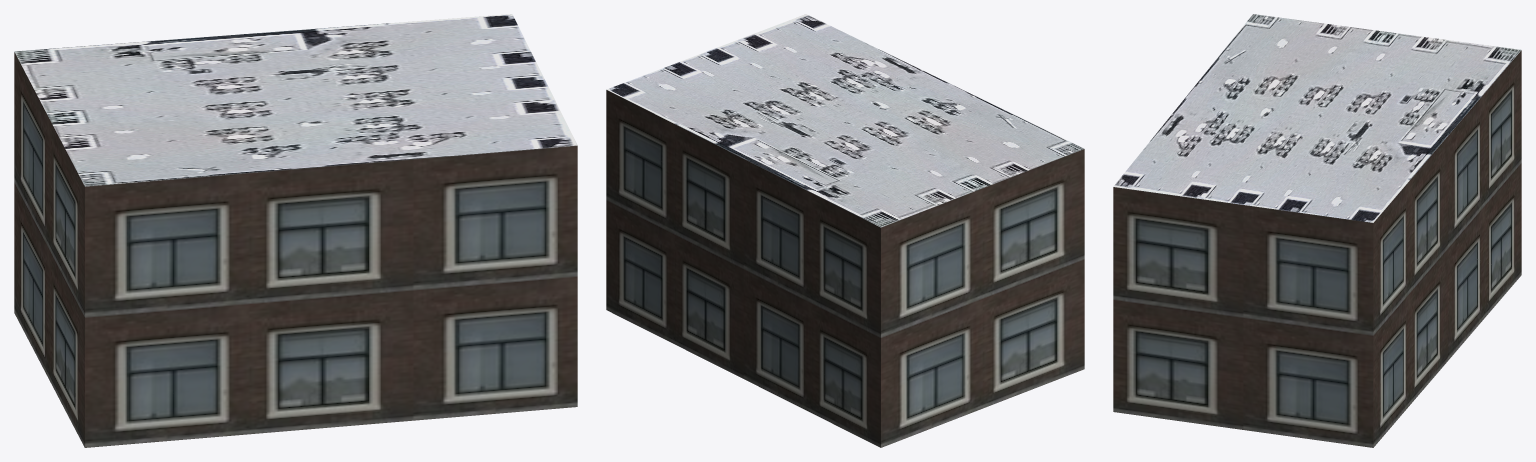
File: ResTex__384.fbx
3 views of the same model, side by side, from view 1: azimuth 30°, elevation 25°; view 2: azimuth 150°, elevation 25°; view 3: azimuth 270°, elevation 25° (orthographic). The views are drawn at different scales.
Parts seen in each view (by area): view 1: CityEngineMaterial_16_m, CityEngineMaterial_15_m; view 2: CityEngineMaterial_16_m, CityEngineMaterial_15_m; view 3: CityEngineMaterial_16_m, CityEngineMaterial_15_m.
Boxes of the visible parts, box(x1,y1,x2,y2) form: CityEngineMaterial_16_m: box(14, 52, 577, 447); CityEngineMaterial_15_m: box(14, 14, 577, 186); CityEngineMaterial_16_m: box(606, 90, 1084, 447); CityEngineMaterial_15_m: box(606, 14, 1084, 227); CityEngineMaterial_16_m: box(1113, 50, 1521, 447); CityEngineMaterial_15_m: box(1113, 14, 1521, 222).
Bounding box in the file's own units: 11.94 × 6 × 9.87.
2 materials, 2 textured.
